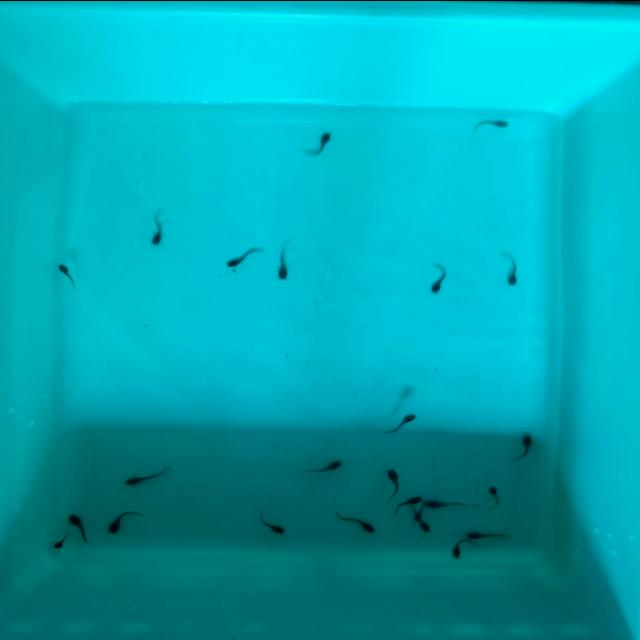lele: (332, 508, 380, 538), (380, 409, 422, 441), (121, 465, 173, 487), (65, 509, 95, 547), (224, 242, 262, 269), (51, 260, 83, 292), (103, 507, 138, 536), (253, 508, 286, 538), (389, 491, 424, 518), (306, 458, 345, 478), (510, 429, 535, 460), (407, 503, 433, 532), (306, 131, 333, 158), (427, 261, 448, 294), (150, 208, 166, 245), (503, 251, 519, 286), (384, 466, 401, 498), (274, 243, 289, 279), (425, 499, 479, 509), (471, 117, 513, 129), (47, 531, 71, 552), (465, 530, 510, 540), (487, 483, 500, 510), (411, 501, 425, 521), (451, 535, 463, 558)
